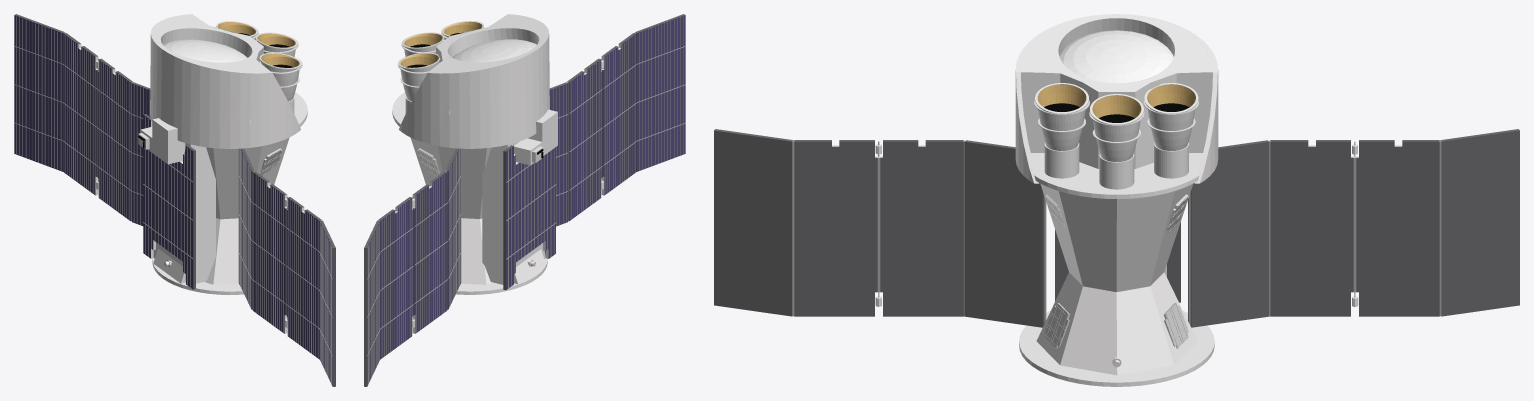
The model's file is submillimeter-wave-astronomy-satellite-swas.glb.
3 views of the same model, side by side, from view 1: azimuth 30°, elevation 25°; view 2: azimuth 150°, elevation 25°; view 3: azimuth 270°, elevation 25° (orthographic). The views are drawn at different scales.
Parts seen in each view (by area): view 1: <LWODefault>; view 2: <LWODefault>; view 3: <LWODefault>.
Boxes of the visible parts, x1,y1,x2,y2 form: <LWODefault>: (14,14,335,386); <LWODefault>: (364,14,685,386); <LWODefault>: (714,14,1519,386).
Bounding box in the file's own units: 21.82 × 32.63 × 82.26.
2 materials, 2 textured.
